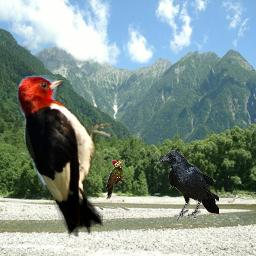Crow: (158, 150, 219, 221)
Woodpecker: (16, 75, 116, 239), (105, 158, 127, 200)
